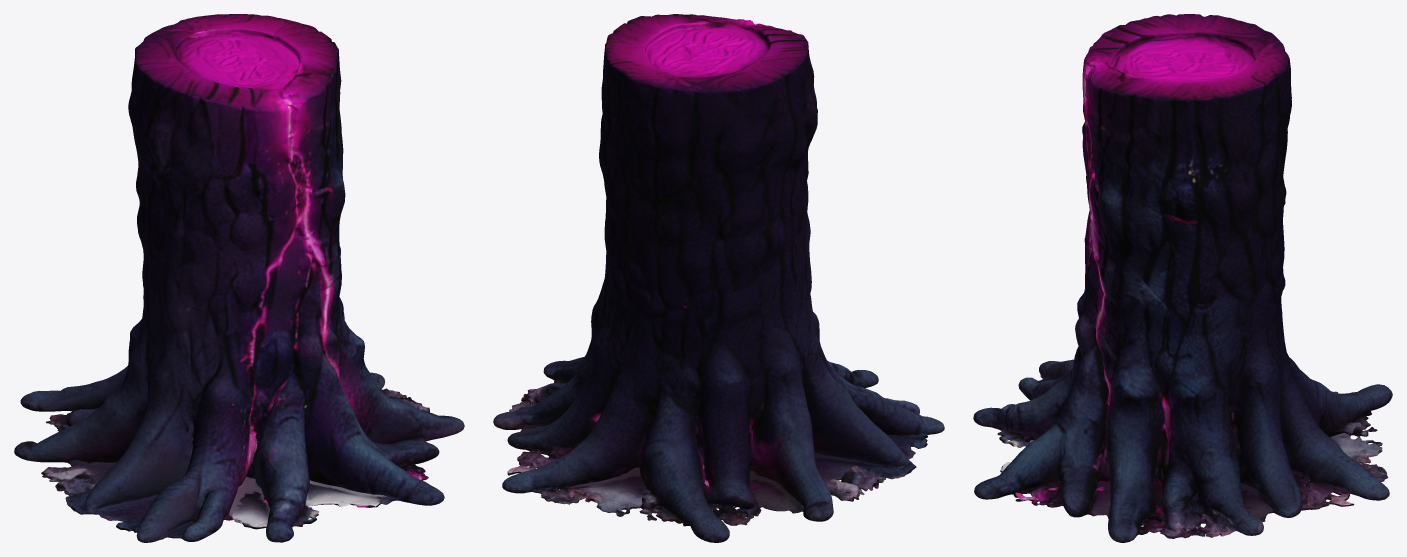
File: trunk-upper-generated-2026-04-19T16-56-26-375Z.glb
The picture shows the model from 3 angles, left to right: view 1: azimuth 30°, elevation 25°; view 2: azimuth 150°, elevation 25°; view 3: azimuth 270°, elevation 25°; orthographic projection.
Visible parts, largest first — view 1: temp_mesh.ply; view 2: temp_mesh.ply; view 3: temp_mesh.ply.
Boxes of the visible parts, x1=… form: temp_mesh.ply: x1=14, y1=14, x2=464, y2=542; temp_mesh.ply: x1=493, y1=14, x2=944, y2=542; temp_mesh.ply: x1=973, y1=14, x2=1392, y2=542.
Size of the model in its own units: 1.97 by 1.97 by 1.89.
1 material, 1 textured.
